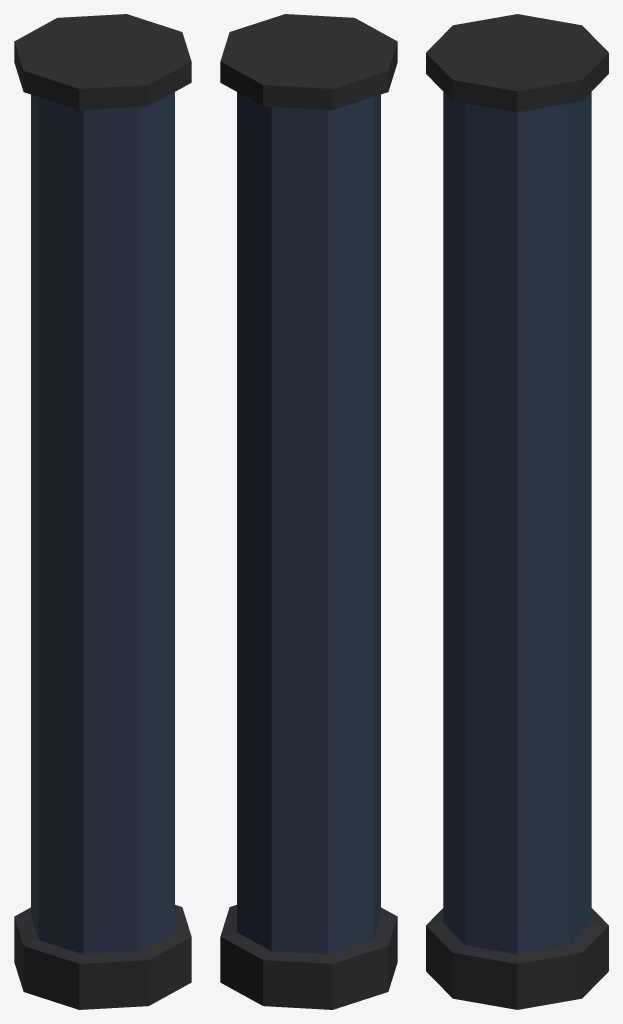
File: SM_Prop_NeonLight_Large_05.fbx
The picture shows the model from 3 angles, left to right: view 1: azimuth 30°, elevation 25°; view 2: azimuth 150°, elevation 25°; view 3: azimuth 270°, elevation 25°; orthographic projection.
Parts seen in each view (by area): view 1: SM_Prop_NeonLight_Large_05; view 2: SM_Prop_NeonLight_Large_05; view 3: SM_Prop_NeonLight_Large_05.
Part boxes in pixels (left/top/right/bottom): SM_Prop_NeonLight_Large_05: left=14, top=14, right=191, bottom=1009; SM_Prop_NeonLight_Large_05: left=220, top=14, right=397, bottom=1009; SM_Prop_NeonLight_Large_05: left=426, top=14, right=608, bottom=1009.
Size of the model in its own units: 68.01 by 377 by 68.01.
